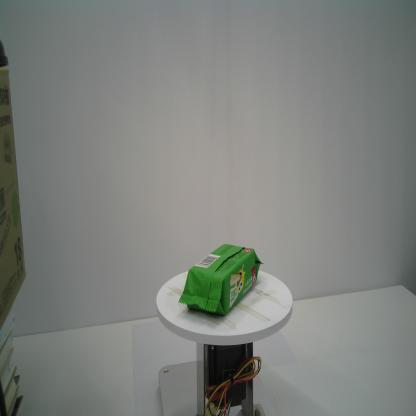Dessert: (178, 242, 264, 317)
